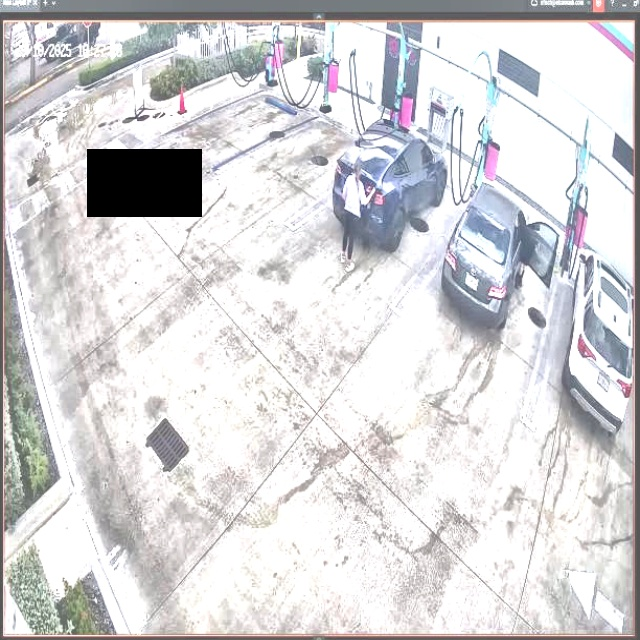Car: (441, 180, 555, 328), (332, 118, 446, 244)
